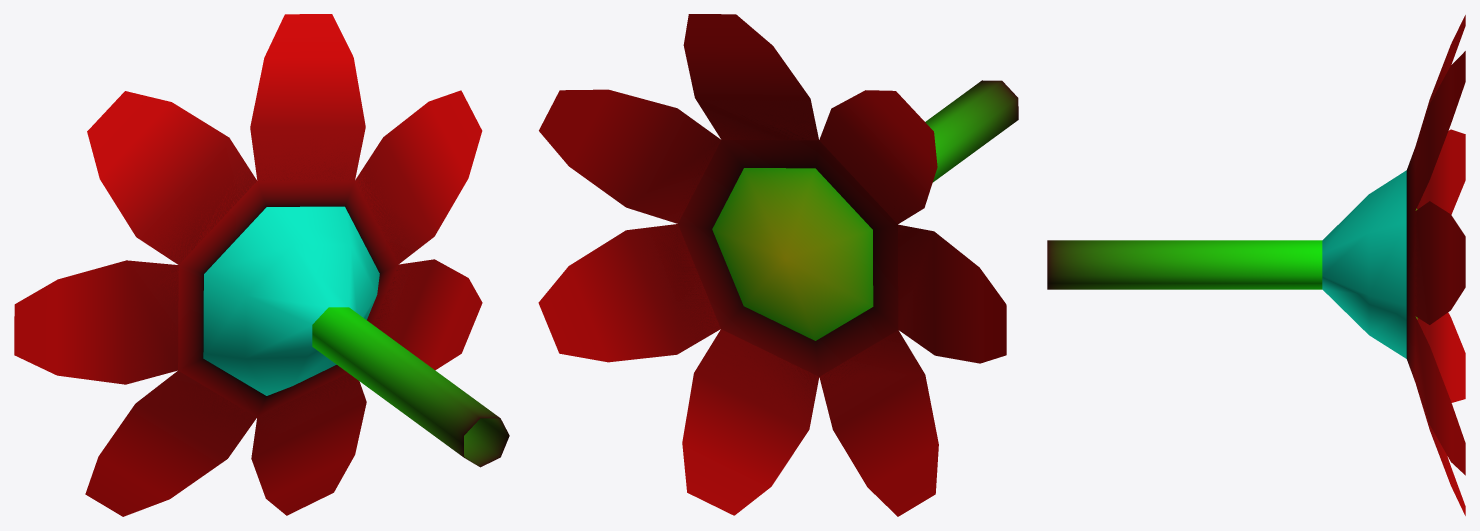
File: Flower3.fbx
3 renders of one model, left to right at view 1: azimuth 30°, elevation 25°; view 2: azimuth 150°, elevation 25°; view 3: azimuth 270°, elevation 25°, orthographic. The views are drawn at different scales.
Visible parts, largest first — view 1: Flower_Petal7; view 2: Flower_Petal7; view 3: Flower_Petal7.
Part boxes in pixels (<box>): Flower_Petal7: <box>14,14,509,516</box>; Flower_Petal7: <box>538,14,1018,516</box>; Flower_Petal7: <box>1047,15,1465,515</box>.
Bounding box in the file's own units: 0.9984 × 1.02 × 0.8519.
